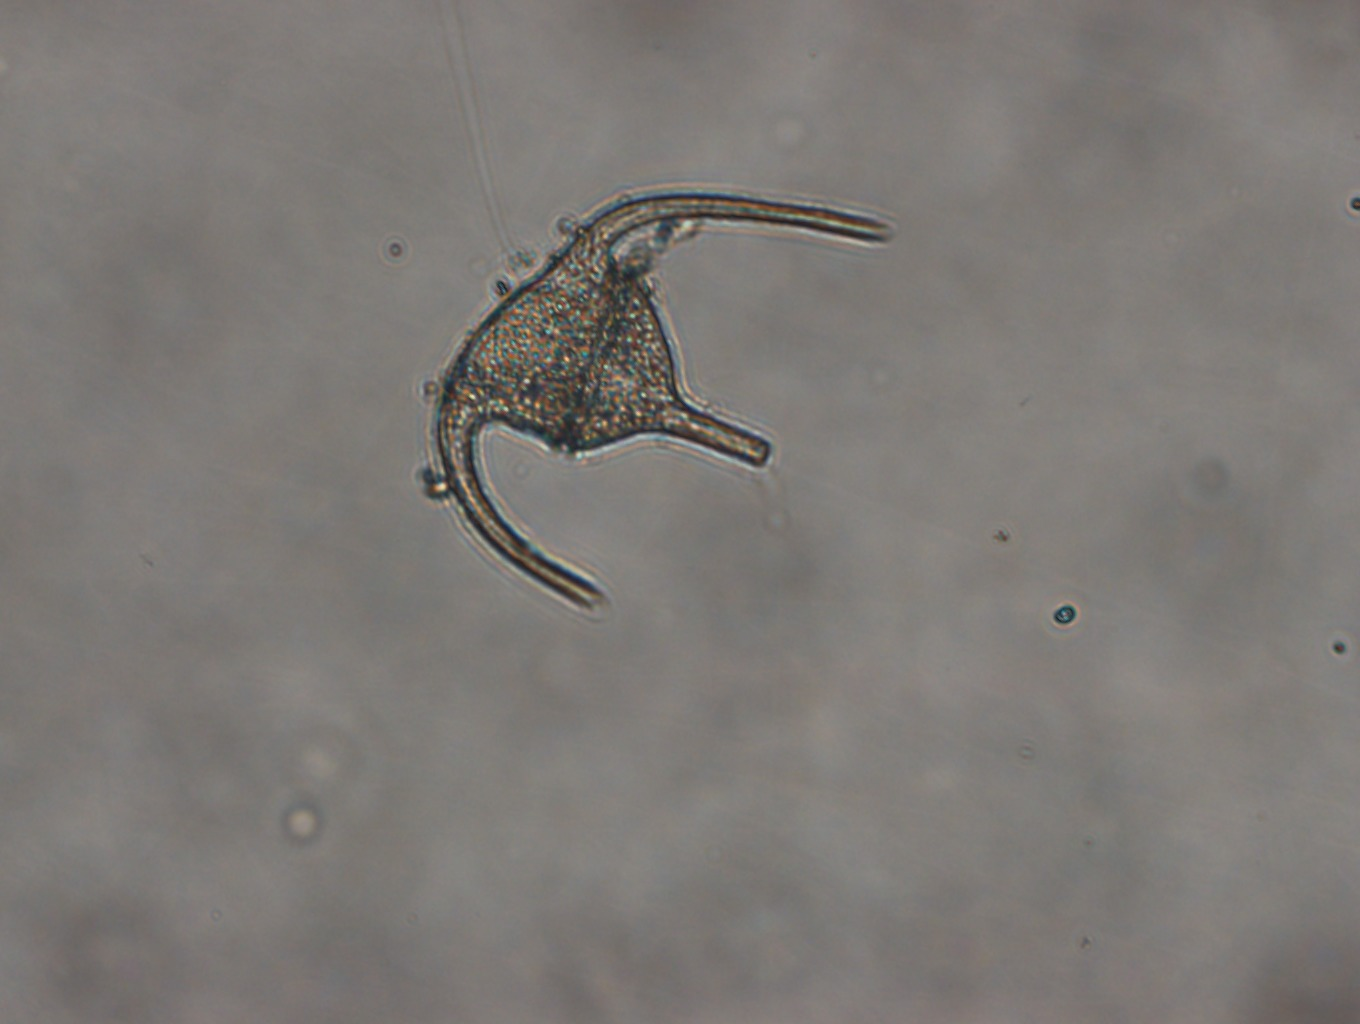ceratium tripos: (429, 187, 894, 622)
